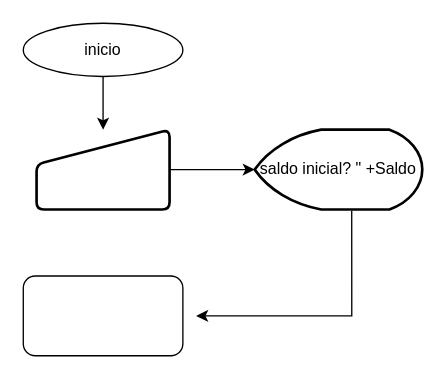
The diagram is 447 pixels wide and 379 high, and some of its shapes have lost their labels. Each missing label, with the centre of its shape:
"encerrar = 'n'" belongs at (x=102, y=315).
"Saldo" belongs at (x=102, y=169).
